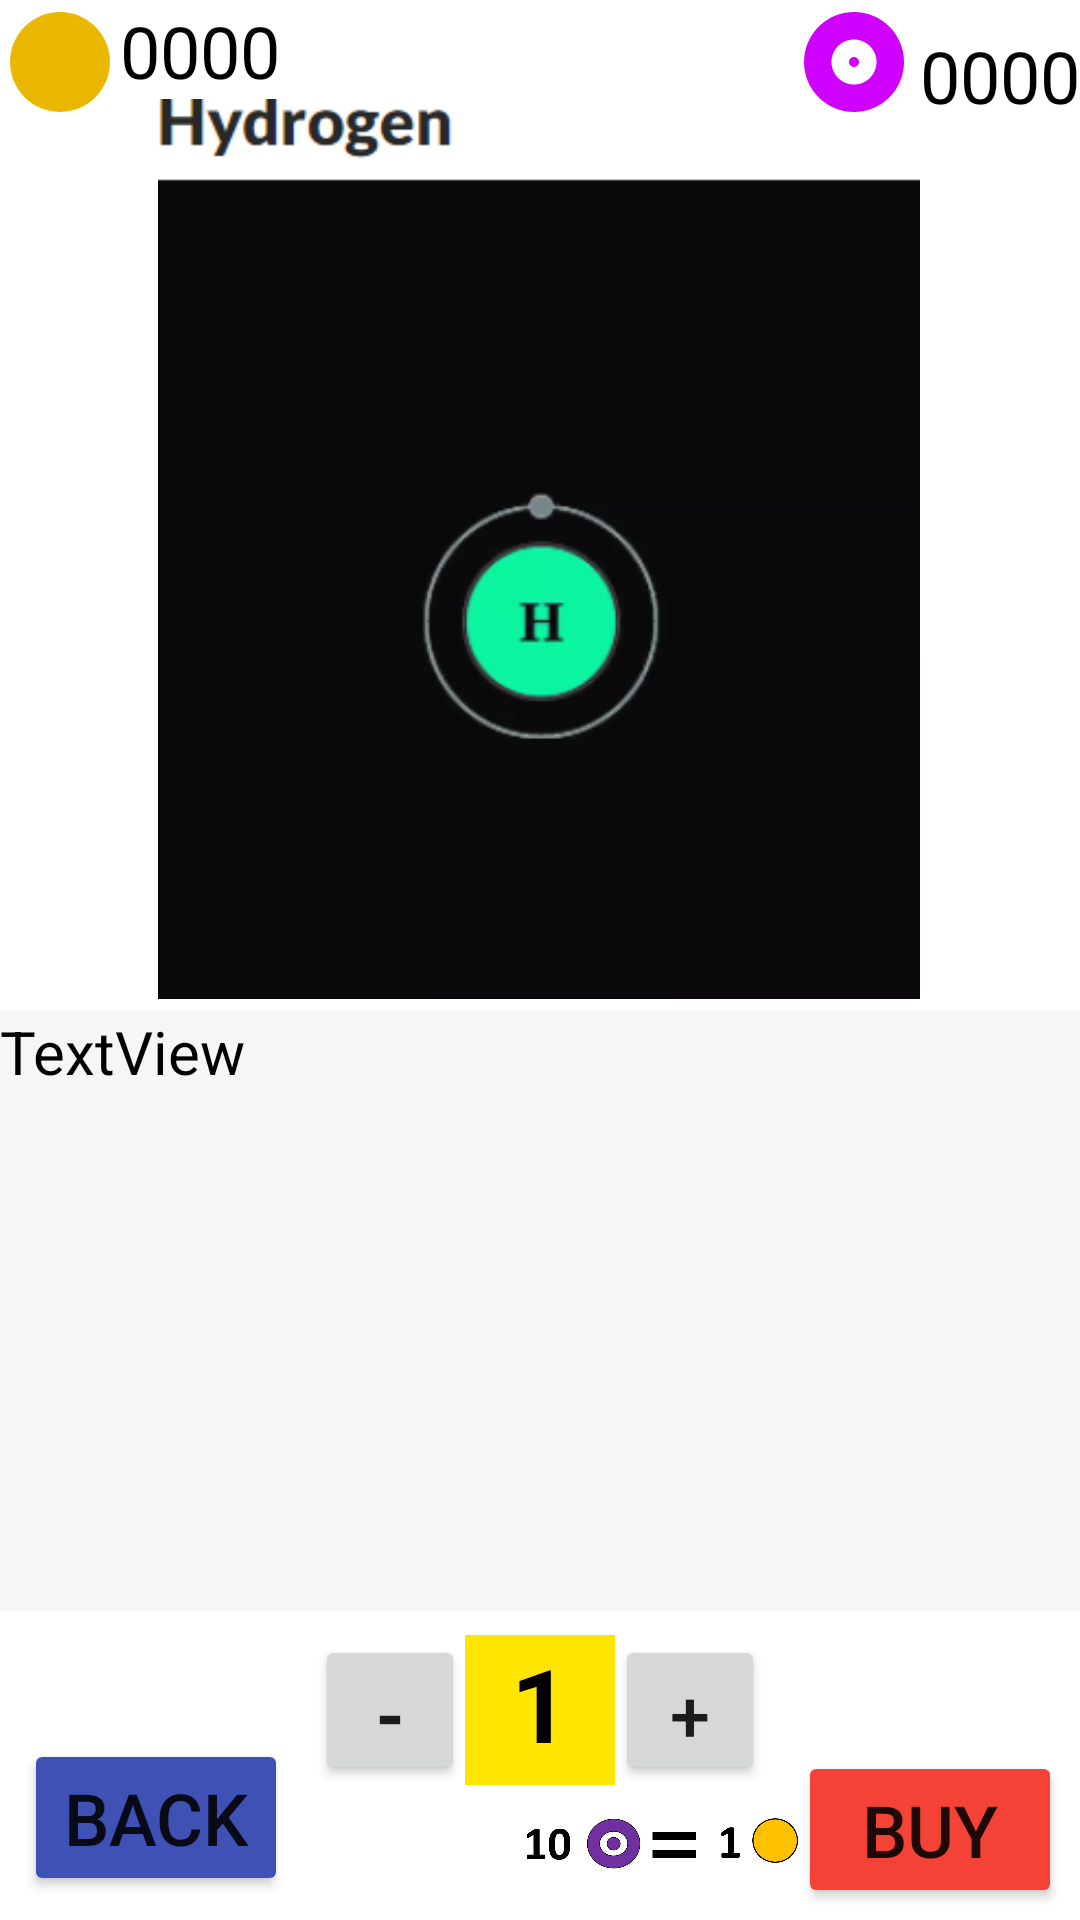

Icon bounding boxes for this 1080×1920 phone screenshot, format (x1, y1, x2, y2):
gem: (804, 12, 904, 112)
